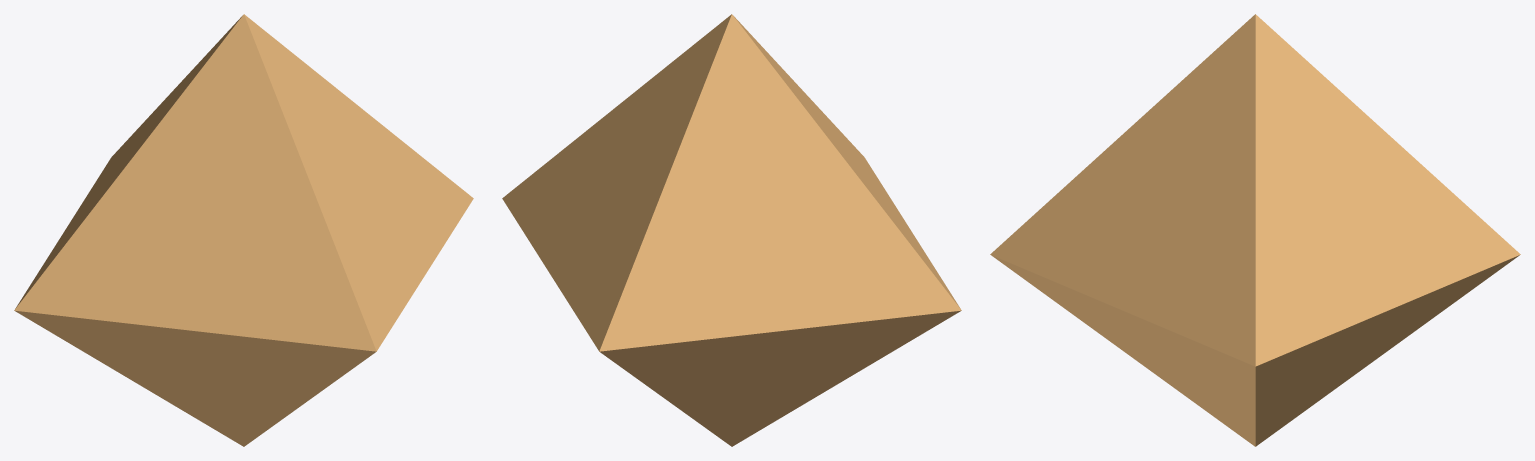
The model's file is sample.glb.
3 renders of one model, left to right at view 1: azimuth 30°, elevation 25°; view 2: azimuth 150°, elevation 25°; view 3: azimuth 270°, elevation 25°, orthographic.
Bounding box in the file's own units: 2 × 1.8 × 2.
